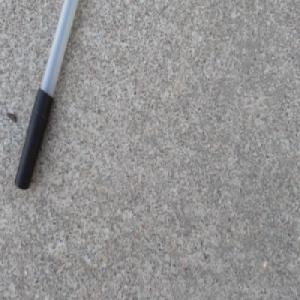Pen: (13, 0, 82, 192)
